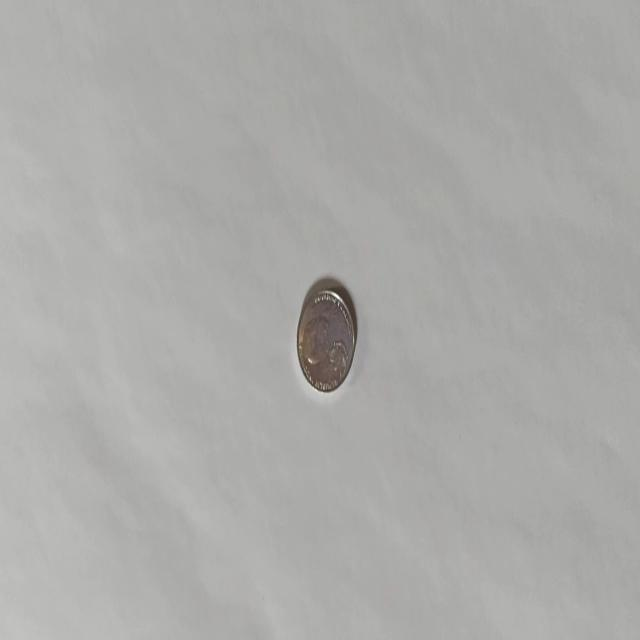lima ratus rupiah: (296, 285, 356, 394)
